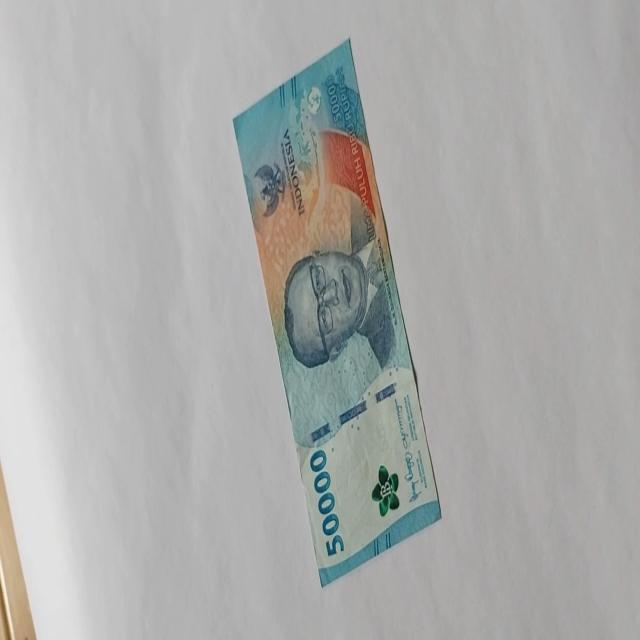lima puluh ribu rupiah: (231, 36, 443, 586), (282, 244, 396, 372)
